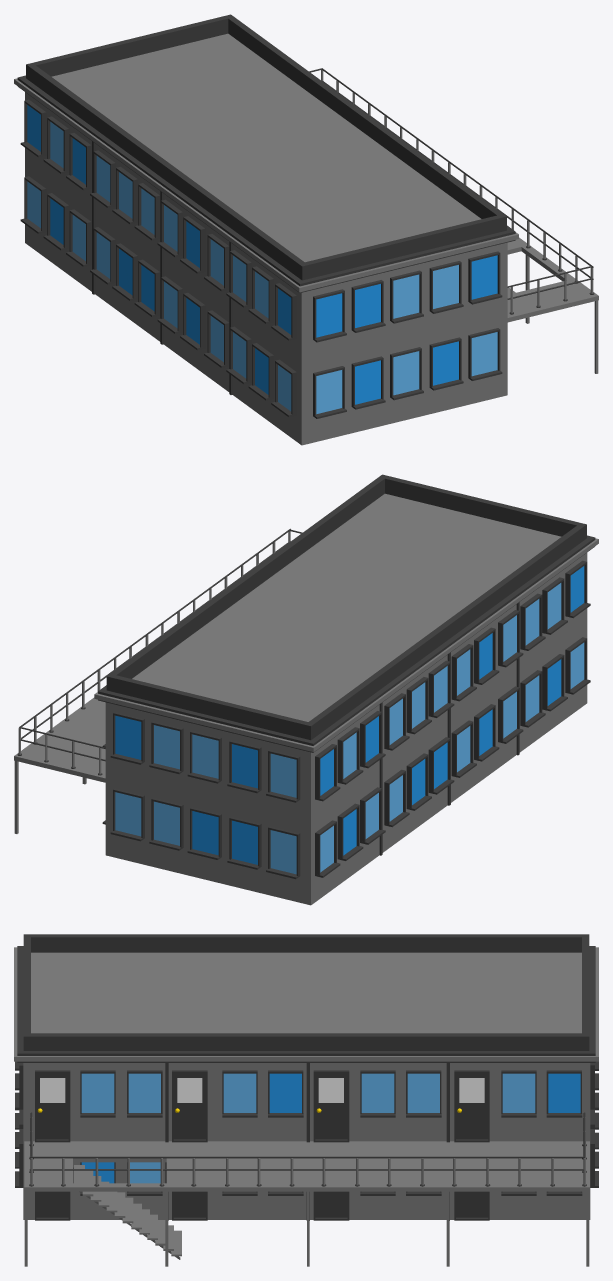
Rendered from building_06.fbx.
The picture shows the model from 3 angles, top to bottom: view 1: azimuth 30°, elevation 25°; view 2: azimuth 150°, elevation 25°; view 3: azimuth 270°, elevation 25°; orthographic projection. The views are drawn at different scales.
Parts seen in each view (by area): view 1: building_06; view 2: building_06; view 3: building_06.
Part boxes in pixels (<box>): building_06: <box>14,14,598,445</box>; building_06: <box>14,474,598,905</box>; building_06: <box>14,934,598,1266</box>.
Bounding box in the file's own units: 1487 × 836 × 2405.
Materials: 1 (1 with a texture image).
